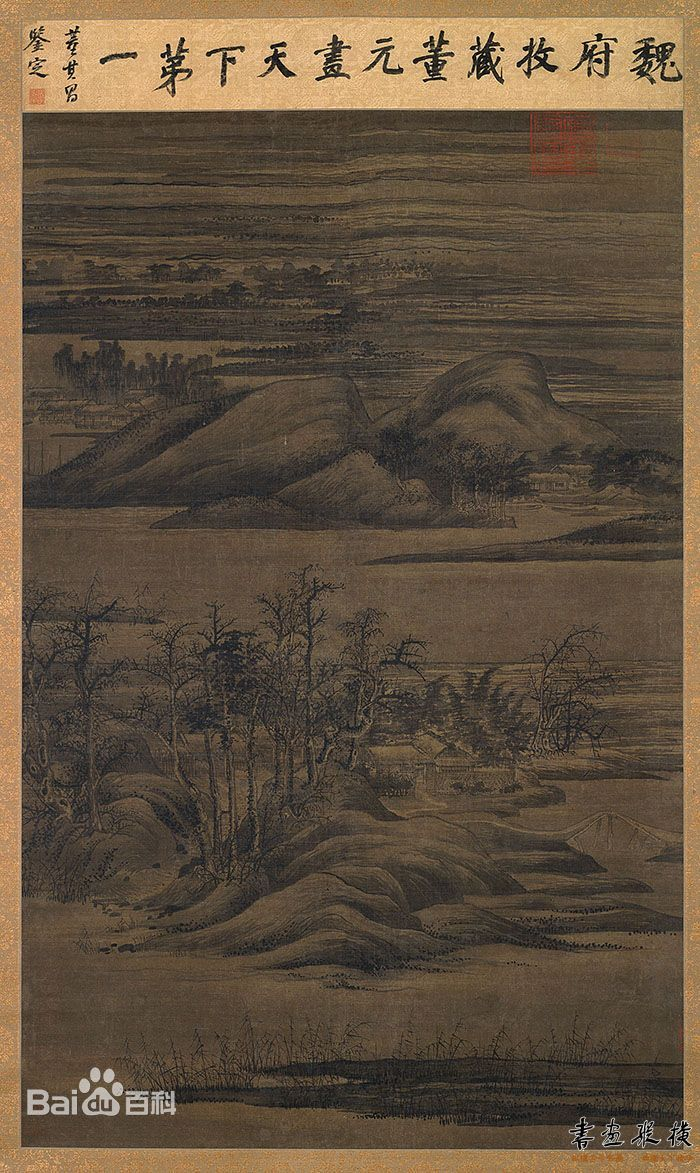boat: (551, 504, 600, 514), (501, 503, 543, 514)
bridge: (493, 805, 682, 870)
hill: (220, 813, 558, 982), (129, 380, 425, 484), (83, 729, 203, 928), (405, 347, 584, 466)
house: (371, 739, 472, 794), (28, 388, 167, 423), (525, 467, 600, 492)
river: (16, 505, 696, 665)
tree: (163, 624, 255, 876), (346, 614, 534, 728), (249, 591, 350, 786), (25, 613, 109, 830), (526, 638, 607, 758)
